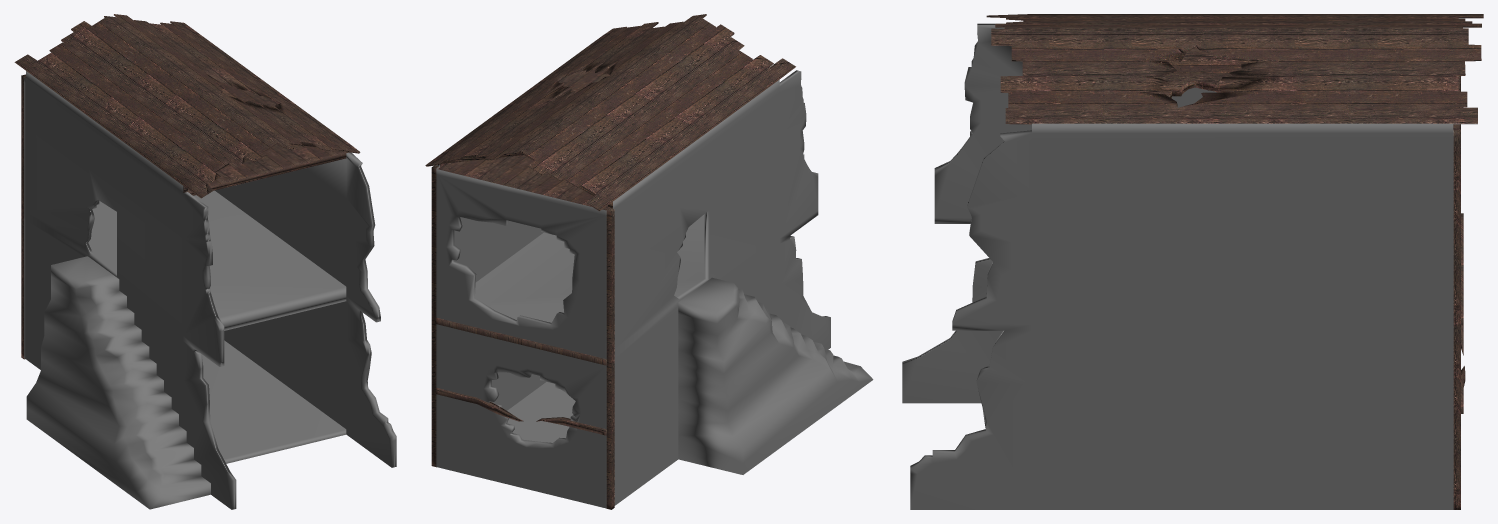
The model's file is Ruin8_lod01.fbx.
The picture shows the model from 3 angles, left to right: view 1: azimuth 30°, elevation 25°; view 2: azimuth 150°, elevation 25°; view 3: azimuth 270°, elevation 25°; orthographic projection. The views are drawn at different scales.
Parts seen in each view (by area): view 1: Default_Layer; view 2: Default_Layer; view 3: Default_Layer.
Part boxes in pixels (bbox=[...]): Default_Layer: bbox=[14, 14, 396, 509]; Default_Layer: bbox=[425, 14, 873, 509]; Default_Layer: bbox=[902, 14, 1483, 509].
Size of the model in its own units: 821 by 1090 by 1347.
